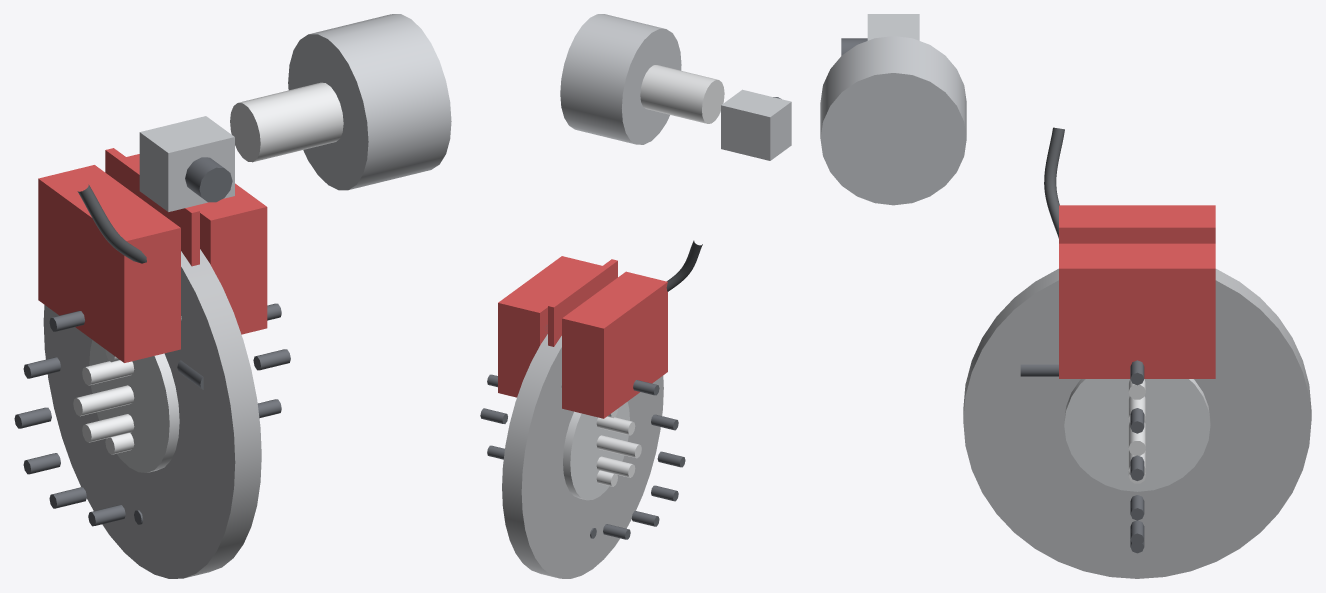
Rendered from fbrakes.glb.
The picture shows the model from 3 angles, left to right: view 1: azimuth 30°, elevation 25°; view 2: azimuth 150°, elevation 25°; view 3: azimuth 270°, elevation 25°; orthographic projection. The views are drawn at different scales.
Visible parts, largest first — view 1: disc (×2), brakeBooster_can, frontBrakeCaliperLeft_inner, frontBrakeCaliperRight_outer, hat (×2), brakeMasterCylinder_body, frontBrakeCaliperRight_inner, frontBrakeRotorLeft, absHydraulicControlUnit_block, frontBrakeCaliperLeft_outer, frontBrakeRotorRight, frontBrakeCaliperLeft_bridge (+3 smaller); view 2: disc (×2), frontBrakeCaliperLeft_inner, brakeBooster_can, frontBrakeCaliperRight_outer, frontBrakeCaliperLeft_outer, absHydraulicControlUnit_block, hat (×2), brakeMasterCylinder_body, frontBrakeRotorLeft, frontBrakeRotorRight, frontBrakeCaliperLeft_bridge, frontBrakeCaliperRight_bridge (+2 smaller); view 3: disc (×2), frontBrakeCaliperLeft_outer, brakeBooster_can, hat, frontBrakeCaliperRight_inner, frontBrakeCaliperLeft_bridge, frontBrakeCaliperLeft_inner, frontBrakeRotorLeft, frontBrakeCaliperRight_outer, absHydraulicControlUnit_block, frontBrakeCaliperRight_bridge, frontBrakeFlexHose_flex (+1 smaller).
Boxes of the visible parts, x1=… form: disc (×2): x1=43, y1=249, x2=261, y2=578; brakeBooster_can: x1=288, y1=14, x2=451, y2=190; frontBrakeCaliperLeft_inner: x1=38, y1=165, x2=180, y2=362; frontBrakeCaliperRight_outer: x1=38, y1=165, x2=180, y2=362; hat (×2): x1=89, y1=340, x2=179, y2=472; brakeMasterCylinder_body: x1=230, y1=82, x2=343, y2=162; frontBrakeCaliperRight_inner: x1=126, y1=154, x2=267, y2=333; frontBrakeRotorLeft: x1=14, y1=303, x2=290, y2=526; absHydraulicControlUnit_block: x1=139, y1=116, x2=234, y2=211; frontBrakeCaliperLeft_outer: x1=127, y1=154, x2=267, y2=334; frontBrakeRotorRight: x1=17, y1=303, x2=290, y2=525; frontBrakeCaliperLeft_bridge: x1=105, y1=148, x2=199, y2=266; disc (×2): x1=502, y1=334, x2=663, y2=578; frontBrakeCaliperLeft_inner: x1=562, y1=271, x2=667, y2=418; brakeBooster_can: x1=560, y1=14, x2=681, y2=144; frontBrakeCaliperRight_outer: x1=562, y1=272, x2=667, y2=418; frontBrakeCaliperLeft_outer: x1=498, y1=256, x2=601, y2=397; absHydraulicControlUnit_block: x1=721, y1=89, x2=791, y2=160; hat (×2): x1=563, y1=402, x2=629, y2=500; brakeMasterCylinder_body: x1=640, y1=65, x2=724, y2=123; frontBrakeRotorLeft: x1=480, y1=374, x2=685, y2=539; frontBrakeRotorRight: x1=480, y1=375, x2=682, y2=539; frontBrakeCaliperLeft_bridge: x1=548, y1=259, x2=617, y2=346; frontBrakeCaliperRight_bridge: x1=548, y1=259, x2=617, y2=346; disc (×2): x1=963, y1=269, x2=1311, y2=578; frontBrakeCaliperLeft_outer: x1=1059, y1=243, x2=1215, y2=378; brakeBooster_can: x1=820, y1=36, x2=966, y2=205; hat: x1=1064, y1=379, x2=1210, y2=491; frontBrakeCaliperRight_inner: x1=1059, y1=243, x2=1215, y2=378; frontBrakeCaliperLeft_bridge: x1=1059, y1=224, x2=1215, y2=243; frontBrakeCaliperLeft_inner: x1=1059, y1=205, x2=1215, y2=223; frontBrakeRotorLeft: x1=1128, y1=360, x2=1145, y2=553; frontBrakeCaliperRight_outer: x1=1059, y1=205, x2=1215, y2=223; absHydraulicControlUnit_block: x1=867, y1=14, x2=919, y2=40; frontBrakeCaliperRight_bridge: x1=1059, y1=224, x2=1215, y2=243; frontBrakeFlexHose_flex: x1=1044, y1=127, x2=1064, y2=238.
Size of the model in its own units: 1.62 by 3.52 by 2.82.
